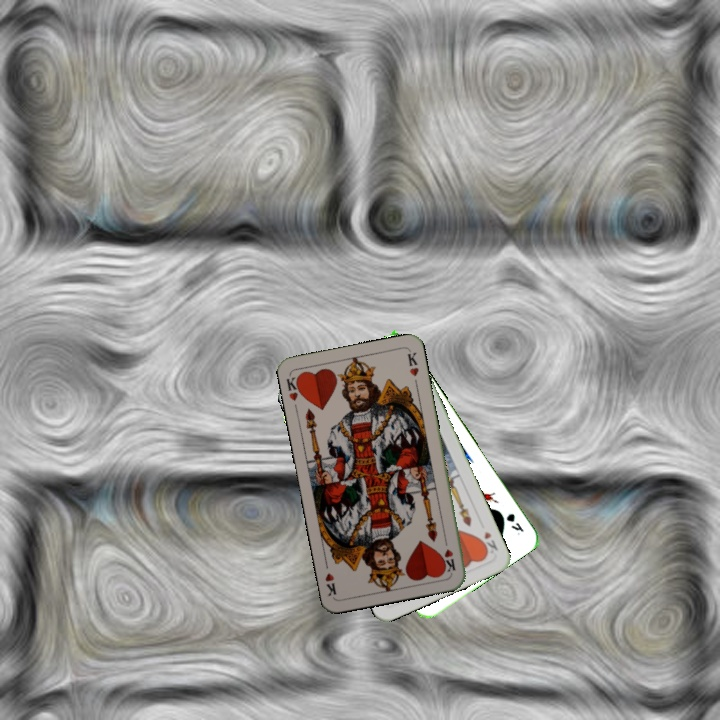GK: (502, 509, 526, 538)
HK: (439, 534, 458, 574), (476, 527, 500, 558), (282, 371, 305, 403)
